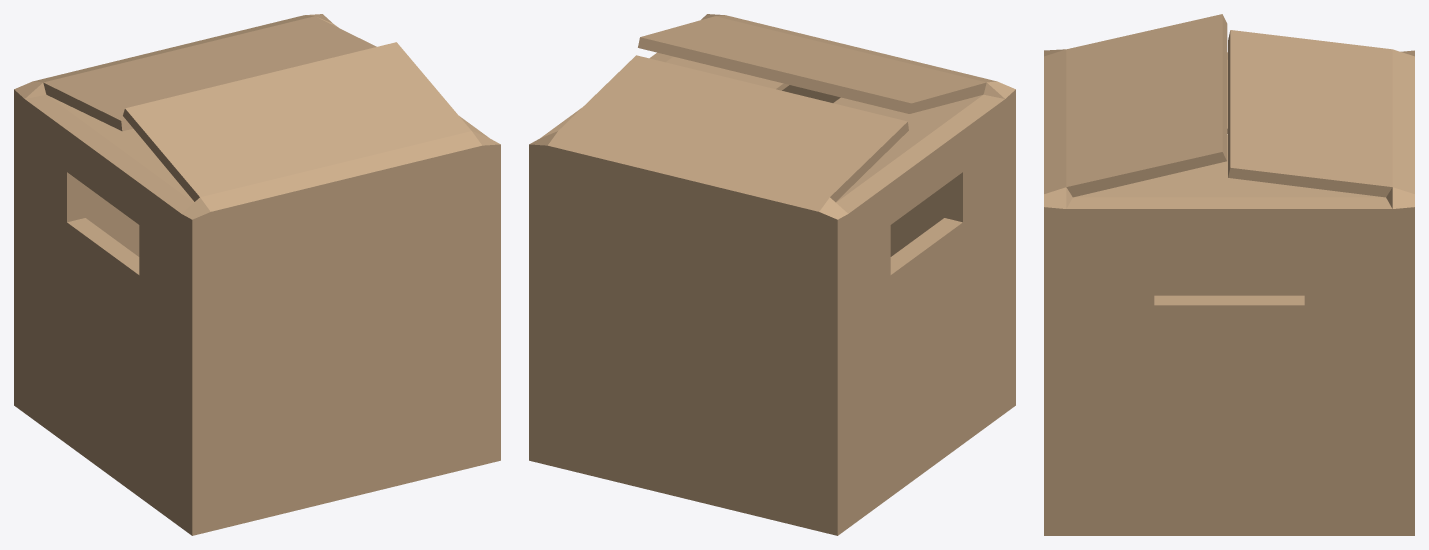
Rendered from Cardboard.glb.
3 views of the same model, side by side, from view 1: azimuth 30°, elevation 25°; view 2: azimuth 150°, elevation 25°; view 3: azimuth 270°, elevation 25° (orthographic). The views are drawn at different scales.
Parts seen in each view (by area): view 1: Cardboard; view 2: Cardboard; view 3: Cardboard.
Part boxes in pixels (x1=…): Cardboard: x1=14, y1=14, x2=500, y2=535; Cardboard: x1=529, y1=14, x2=1015, y2=535; Cardboard: x1=1044, y1=14, x2=1414, y2=535.
Size of the model in its own units: 1 by 1.12 by 1.
